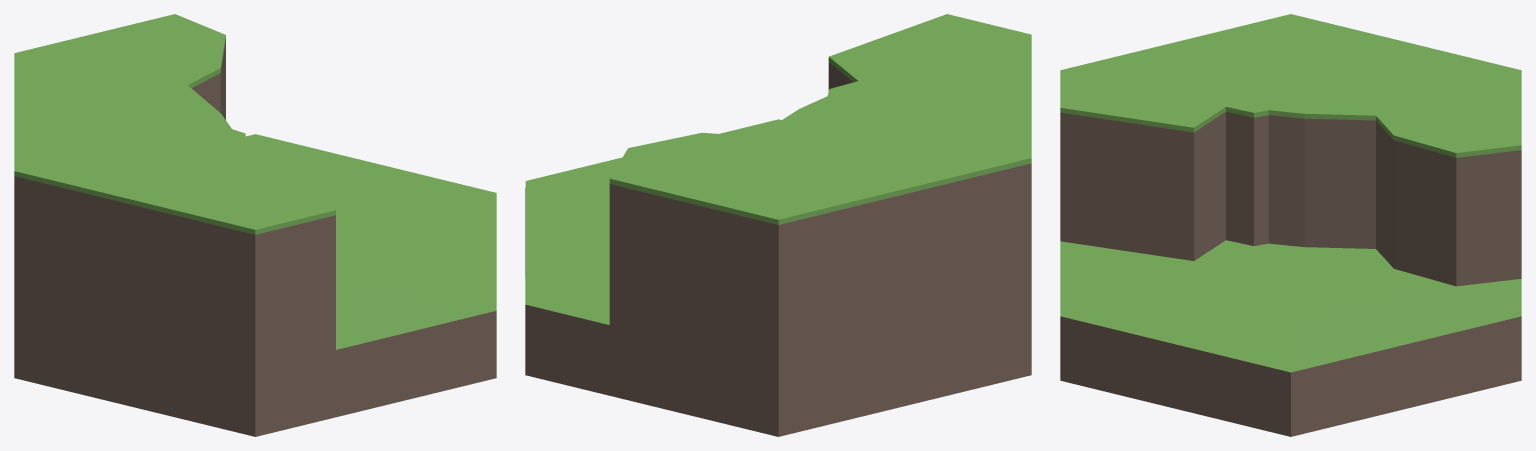
The model's file is tileCliff01.fbx.
The picture shows the model from 3 angles, left to right: view 1: azimuth 30°, elevation 25°; view 2: azimuth 150°, elevation 25°; view 3: azimuth 270°, elevation 25°; orthographic projection. The views are drawn at different scales.
Parts seen in each view (by area): view 1: Tile20; view 2: Tile20; view 3: Tile20.
Boxes of the visible parts, x1=… form: Tile20: x1=14, y1=14, x2=496, y2=436; Tile20: x1=525, y1=14, x2=1031, y2=436; Tile20: x1=1060, y1=14, x2=1521, y2=436.
Bounding box in the file's own units: 2 × 0.82 × 1.73.
